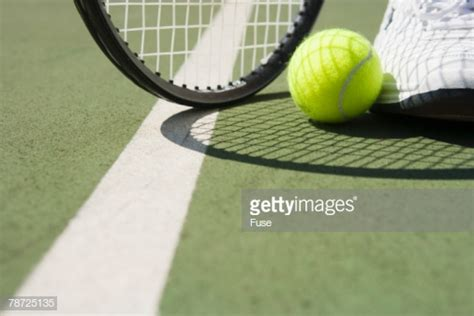tennis_ball: (286, 27, 383, 123)
